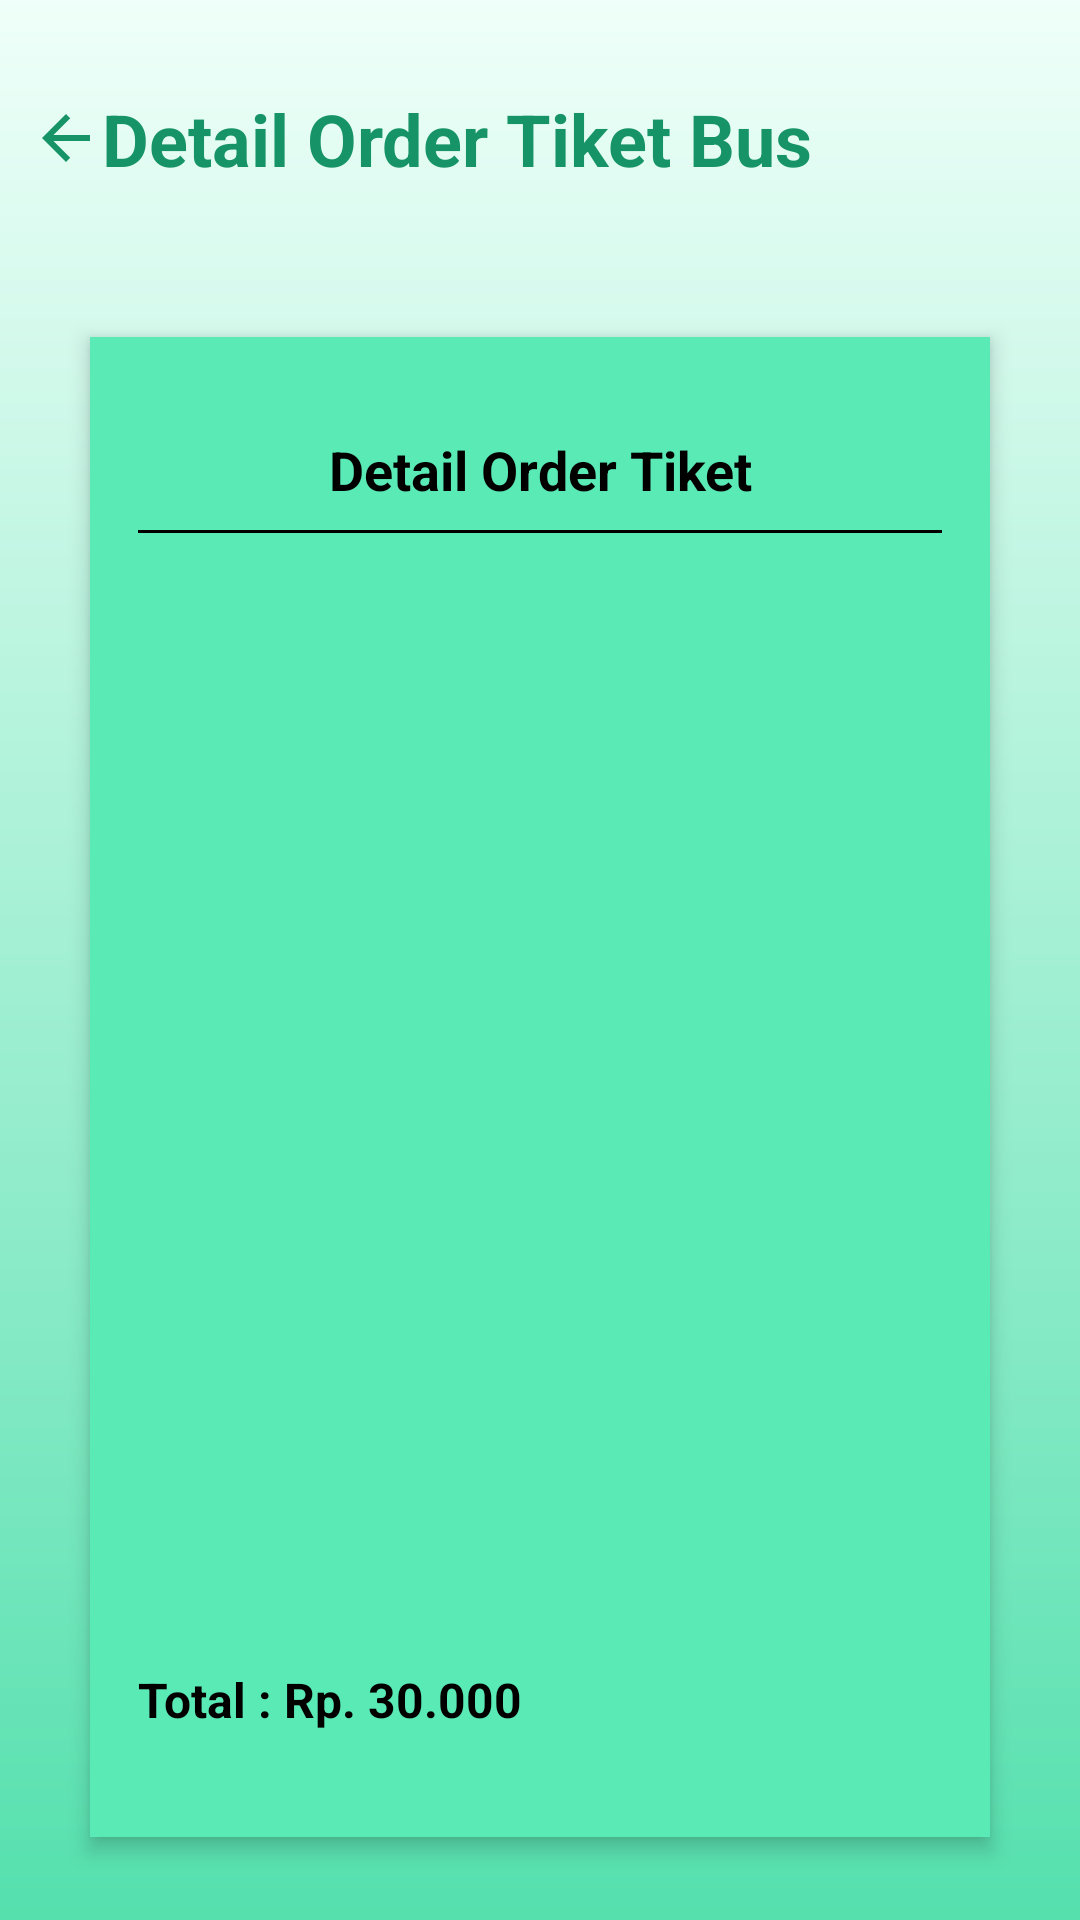

Icons on this 1080x1920 Android screen, each with the point to tap as (x=x, y=y):
Kembali: (x=66, y=138)
